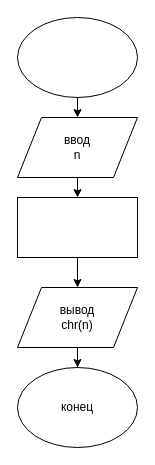
Image size: 155x465. Some labels were removed from this diagram. The shapes that lost their labels are listed below. From the top down, each one's centre as x and y in pixels, then its label:
At (77,57): "начало".
At (77,227): "n = ord('a') + n - 1".
